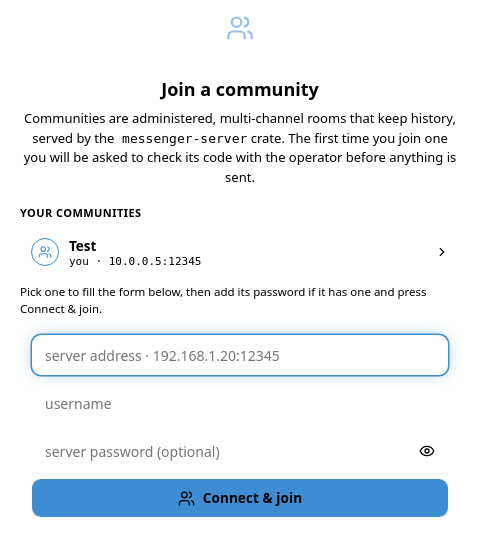
Test: Parties — joining › fills the form from a saved community but does not join from the card
Click the button titled "Fill in you@10.0.0.5:12345" at x=155, y=261, box left=20, top=228, right=460, bottom=276
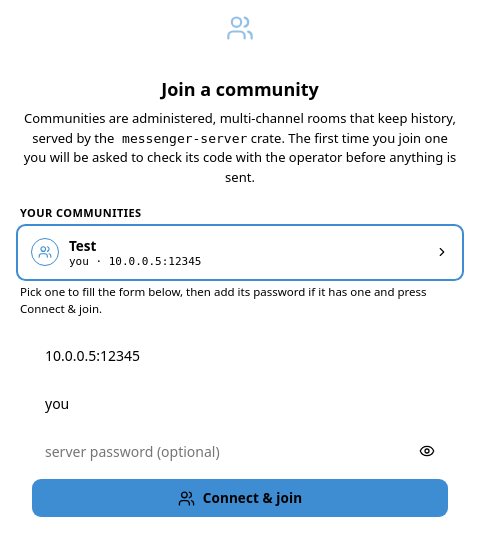
Check: the 1st field with placeholder "server address · 192.168.1.20:12345" holds "10.0.0.5:12345", box left=32, top=335, right=448, bottom=375
Check: the 2nd field with placeholder "username" holds "you", box left=32, top=383, right=448, bottom=423
